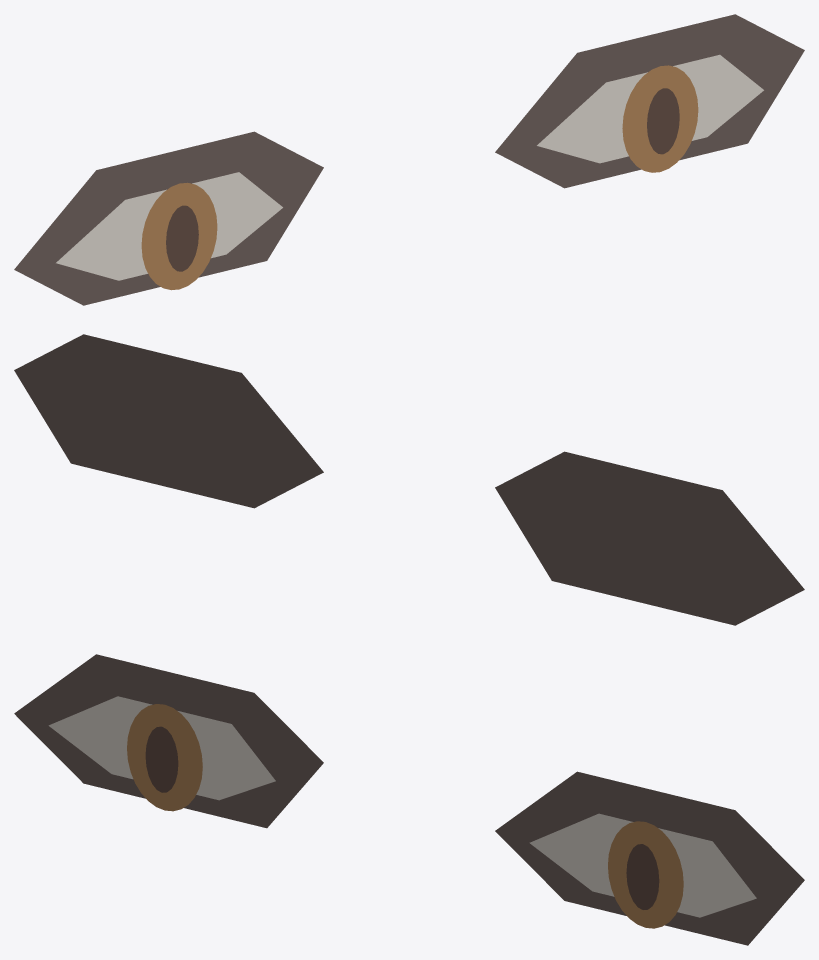
File: pawn-head-03_03_eyes-v0.0.12.glb
3 renders of one model, top to bottom at view 1: azimuth 30°, elevation 25°; view 2: azimuth 150°, elevation 25°; view 3: azimuth 330°, elevation 25°, orthographic.
Visible parts, largest first — view 1: Eye_almond_outline_L, Eye_almond_outline_R, Eye_ivory_insert_L, Eye_ivory_insert_R, Eye_amber_flat_L, Eye_amber_flat_R, Eye_pupil_flat_R, Eye_pupil_flat_L; view 2: Eye_almond_outline_R, Eye_almond_outline_L; view 3: Eye_almond_outline_L, Eye_almond_outline_R, Eye_ivory_insert_L, Eye_ivory_insert_R, Eye_amber_flat_L, Eye_amber_flat_R, Eye_pupil_flat_L, Eye_pupil_flat_R.
Boxes of the visible parts, <box> form: Eye_almond_outline_L: <box>14,131,323,305</box>; Eye_almond_outline_R: <box>495,14,804,188</box>; Eye_ivory_insert_L: <box>56,172,282,280</box>; Eye_ivory_insert_R: <box>537,54,763,163</box>; Eye_amber_flat_L: <box>141,182,217,290</box>; Eye_amber_flat_R: <box>622,65,698,172</box>; Eye_pupil_flat_R: <box>647,88,679,154</box>; Eye_pupil_flat_L: <box>166,205,198,271</box>; Eye_almond_outline_R: <box>14,334,323,508</box>; Eye_almond_outline_L: <box>495,451,804,625</box>; Eye_almond_outline_L: <box>14,654,323,828</box>; Eye_almond_outline_R: <box>495,771,804,945</box>; Eye_ivory_insert_L: <box>48,696,275,800</box>; Eye_ivory_insert_R: <box>529,813,756,917</box>; Eye_amber_flat_L: <box>127,704,202,811</box>; Eye_amber_flat_R: <box>608,821,683,928</box>; Eye_pupil_flat_L: <box>145,726,178,792</box>; Eye_pupil_flat_R: <box>626,844,659,909</box>.
Bounding box in the file's own units: 0.125 × 0.02 × 0.0028.
